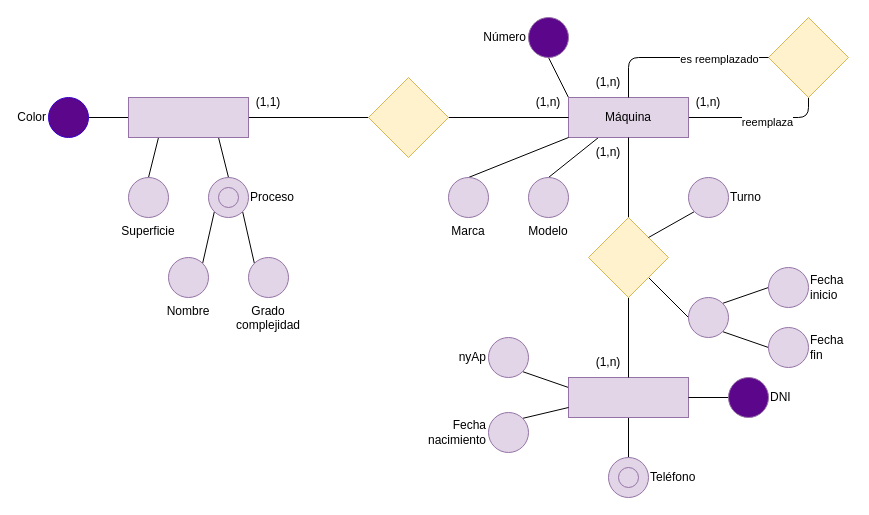
This 869x515 diagram has some shape labels left out. Here are the shapes that lost their labels. From the top down, the centre of each, then its label:
At pixel 808 57: "pertenece".
At pixel 188 117: "Planta".
At pixel 408 117: "posee".
At pixel 628 257: "opera".
At pixel 708 317: "Período".
At pixel 628 397: "Técnico".
